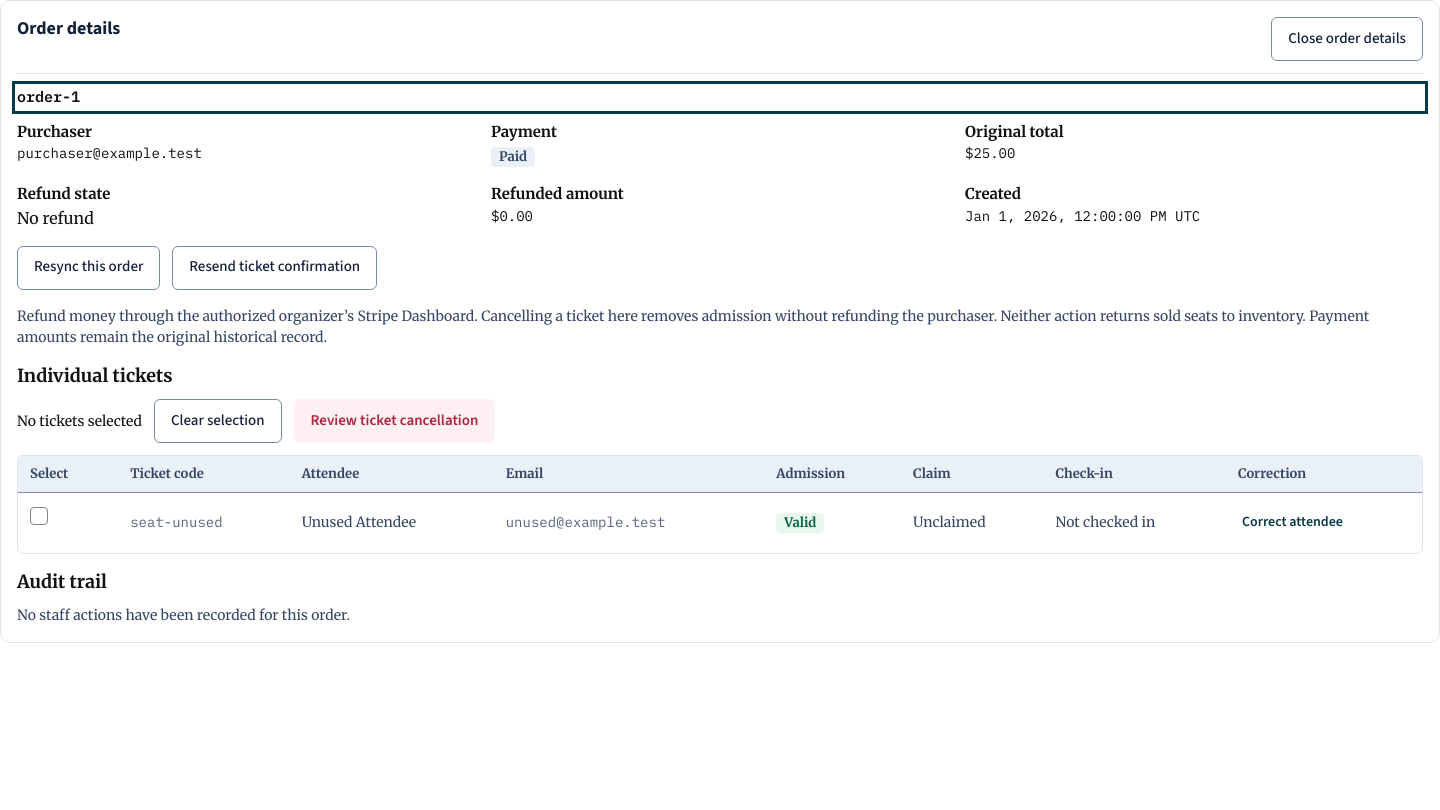
Test: staff cancellation authority › blocks staff review when the entire stale selection is now checked in
The image size is (1440, 810).
Click the checkbox named "Select Unused Attendee": click(39, 516) [30,507,48,525]
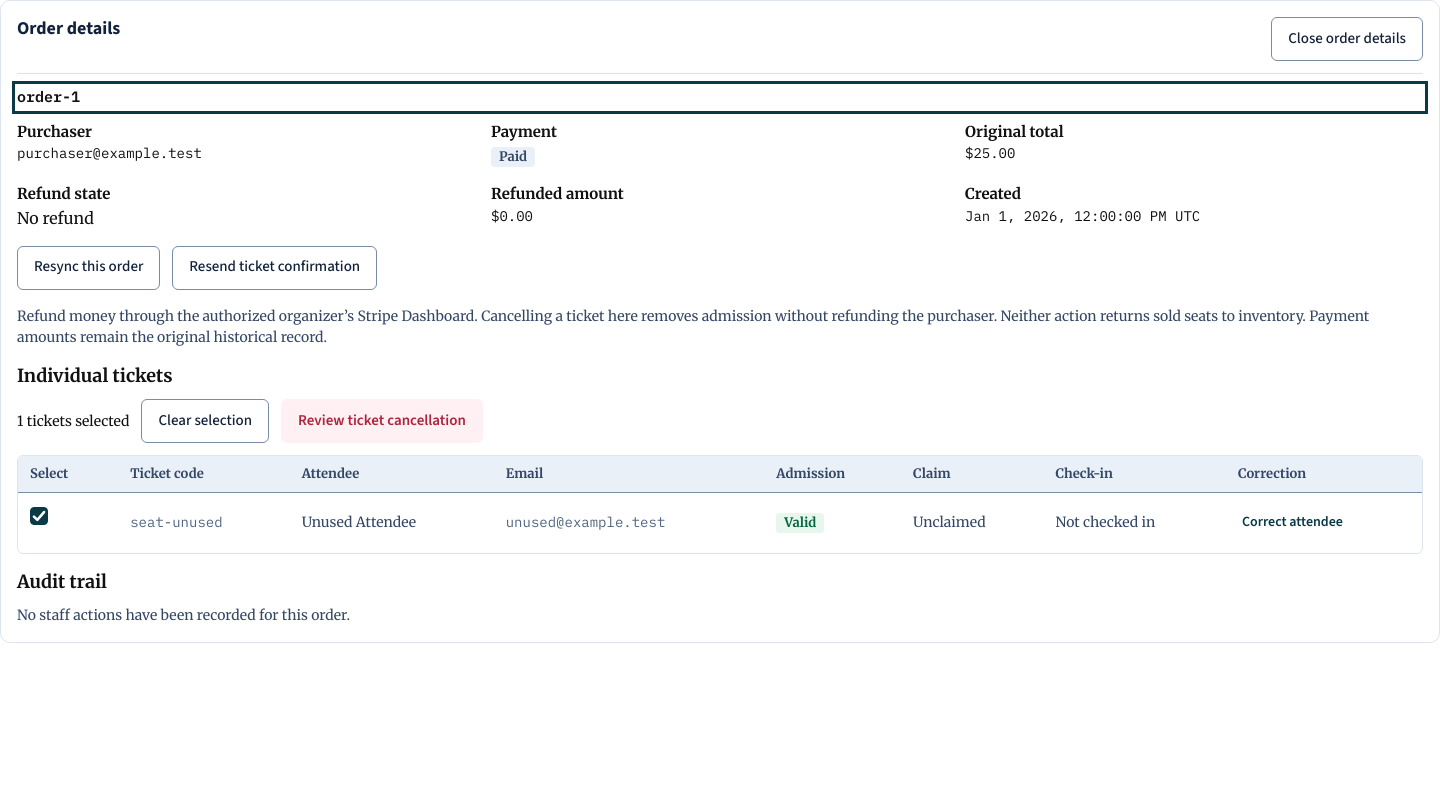
Click the button "Review ticket cancellation": click(382, 421) [281,399,483,443]
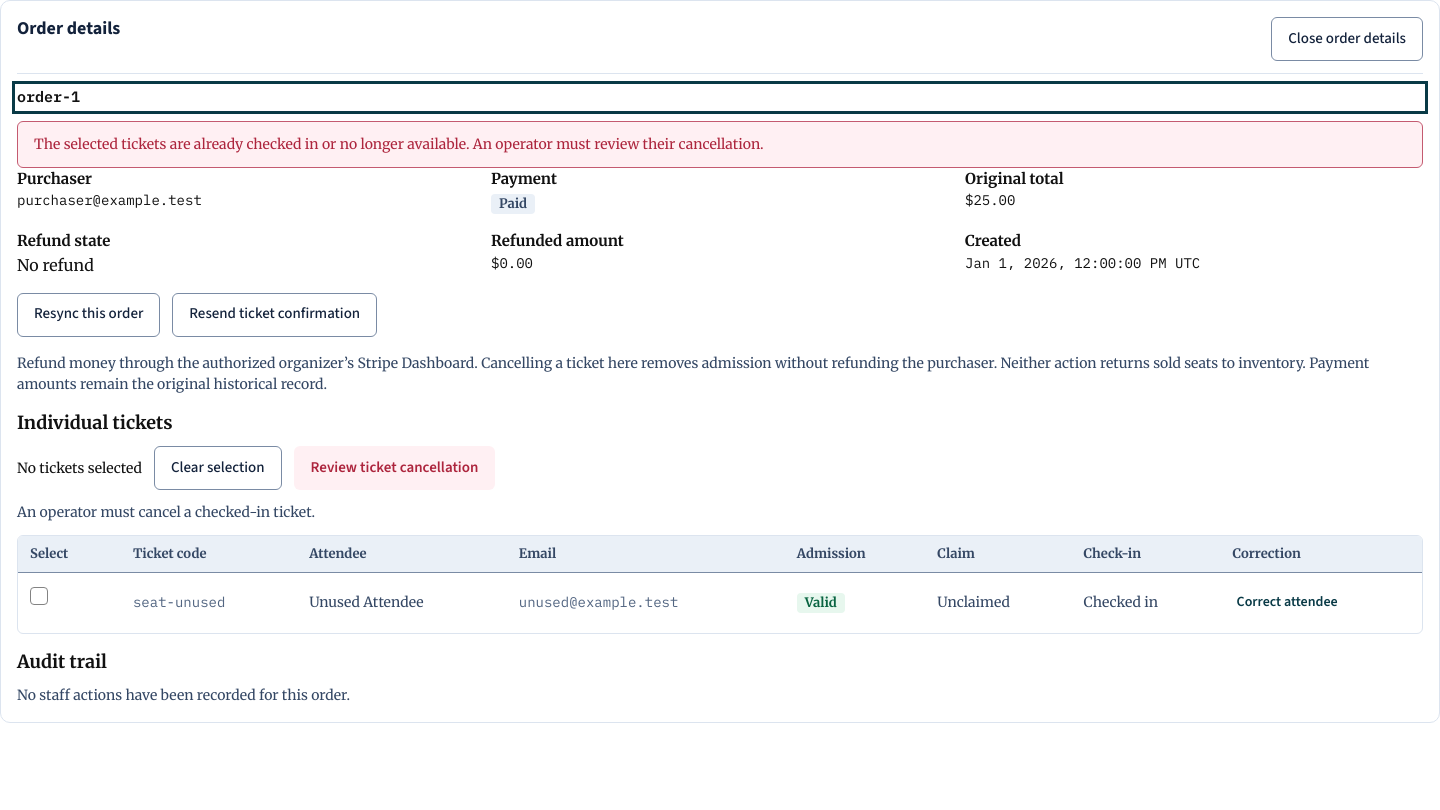
Check: the text "An operator must review their cancellation" is shown, box [34,134,764,152]
Check: the checkbox named "Select Unused Attendee" is disabled, box [30,587,48,605]
